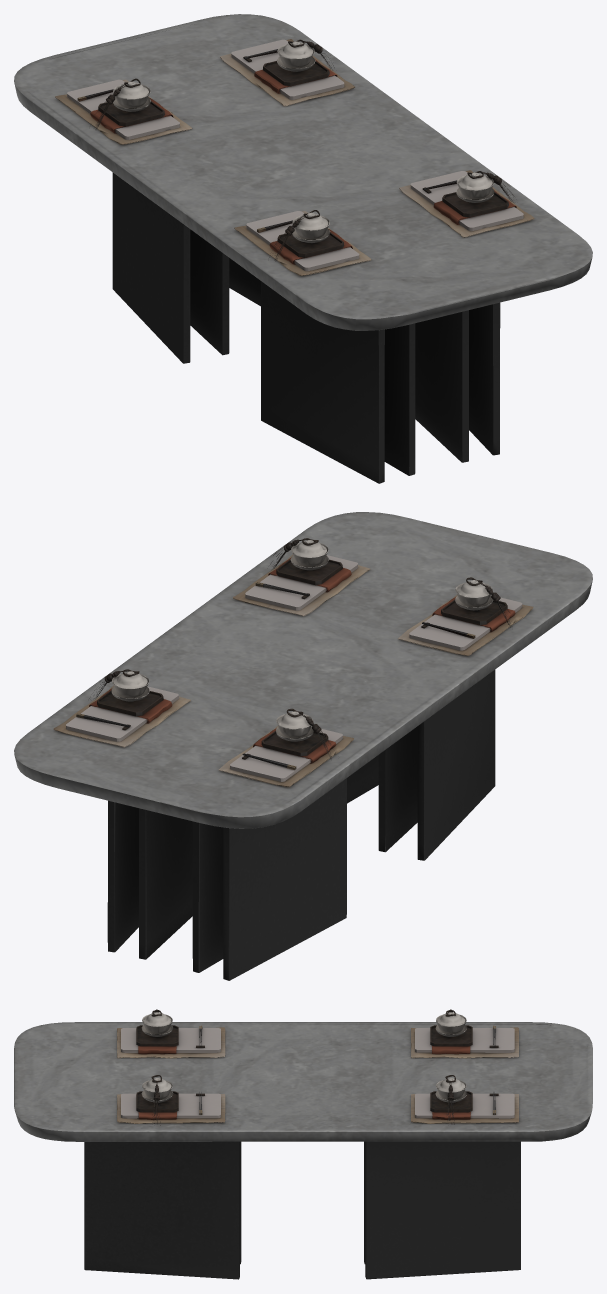
The model's file is table_dining_table_square_422fcb35-b3e0-5e77-a975-2b5bd11e54d7.glb.
3 renders of one model, top to bottom at view 1: azimuth 30°, elevation 25°; view 2: azimuth 150°, elevation 25°; view 3: azimuth 270°, elevation 25°, orthographic. The views are drawn at different scales.
Parts seen in each view (by area): view 1: raw_model.obj; view 2: raw_model.obj; view 3: raw_model.obj.
Part boxes in pixels (left/top/right/bottom): raw_model.obj: left=14, top=14, right=592, bottom=483; raw_model.obj: left=14, top=512, right=592, bottom=980; raw_model.obj: left=14, top=1009, right=592, bottom=1279.
Bounding box in the file's own units: 1.51 × 1.29 × 3.37.
1 material, 1 textured.
